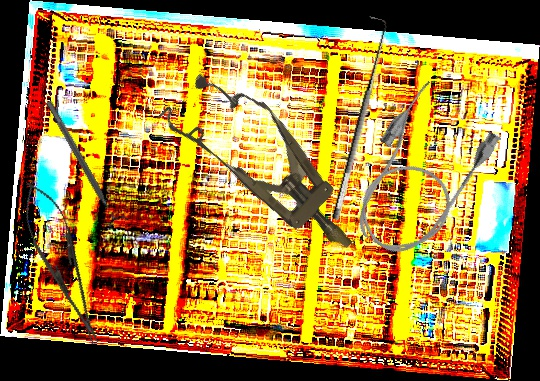Cannula: (332, 76, 507, 270)
Fixation Ring: (38, 96, 130, 230)
Hook Surgical: (315, 15, 396, 222)
Needle Holder: (9, 174, 115, 352)
Speculum: (155, 56, 380, 277)
